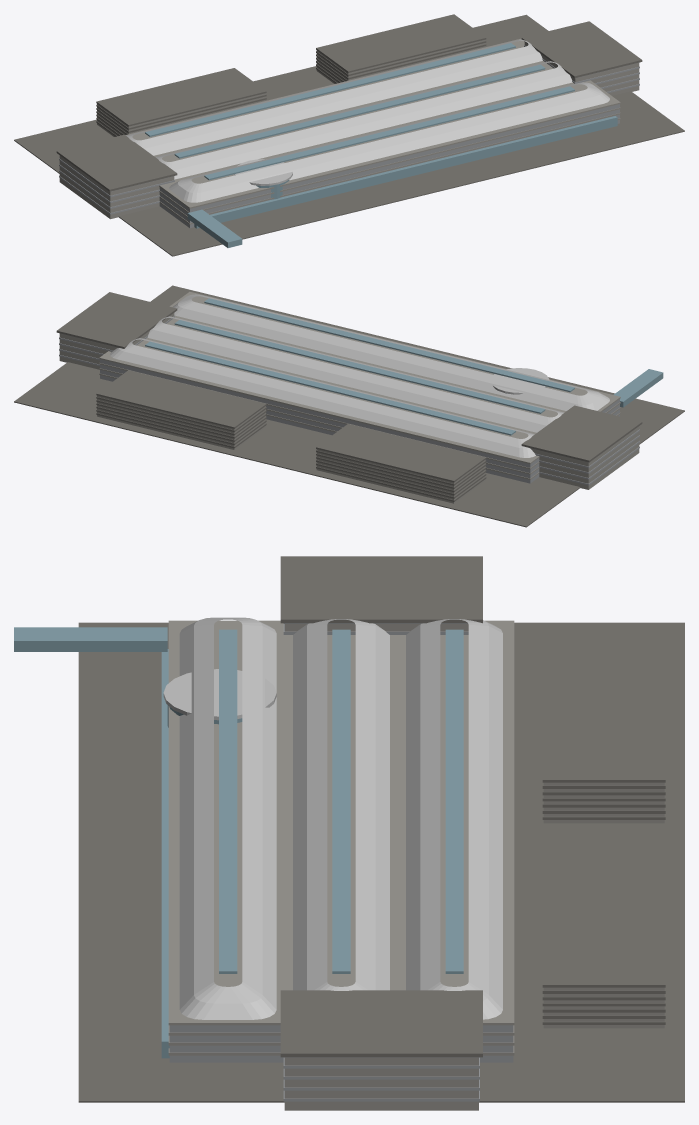
File: westfield_stratford.glb
3 views of the same model, one above another, from view 1: azimuth 30°, elevation 25°; view 2: azimuth 150°, elevation 25°; view 3: azimuth 270°, elevation 25° (orthographic). The views are drawn at different scales.
Parts seen in each view (by area): view 1: westfield_stratford; view 2: westfield_stratford; view 3: westfield_stratford.
Part boxes in pixels (bbox=[...]): westfield_stratford: bbox=[14, 14, 684, 256]; westfield_stratford: bbox=[14, 285, 684, 527]; westfield_stratford: bbox=[14, 556, 684, 1110].
Bounding box in the file's own units: 582 × 34.4 × 332.
